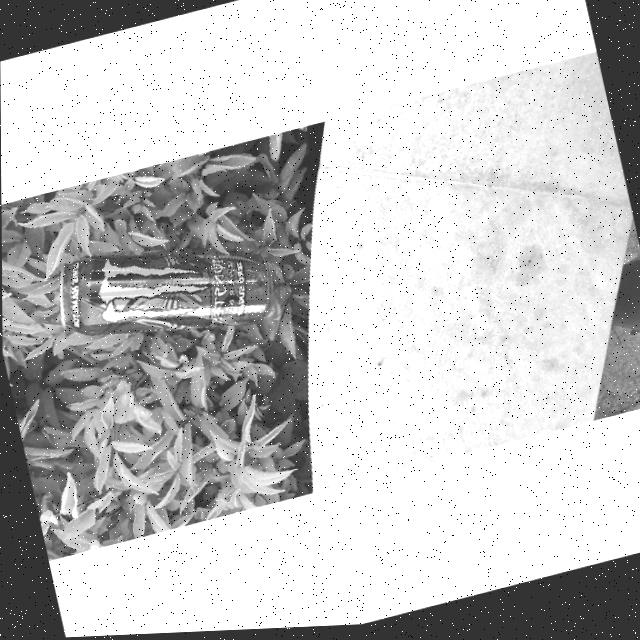Monster LH44: (49, 212, 279, 372)
